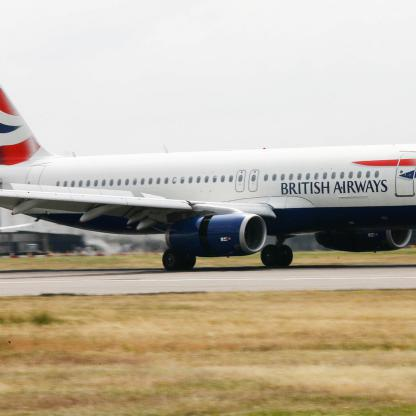CIV_Plane: (0, 86, 415, 275)
